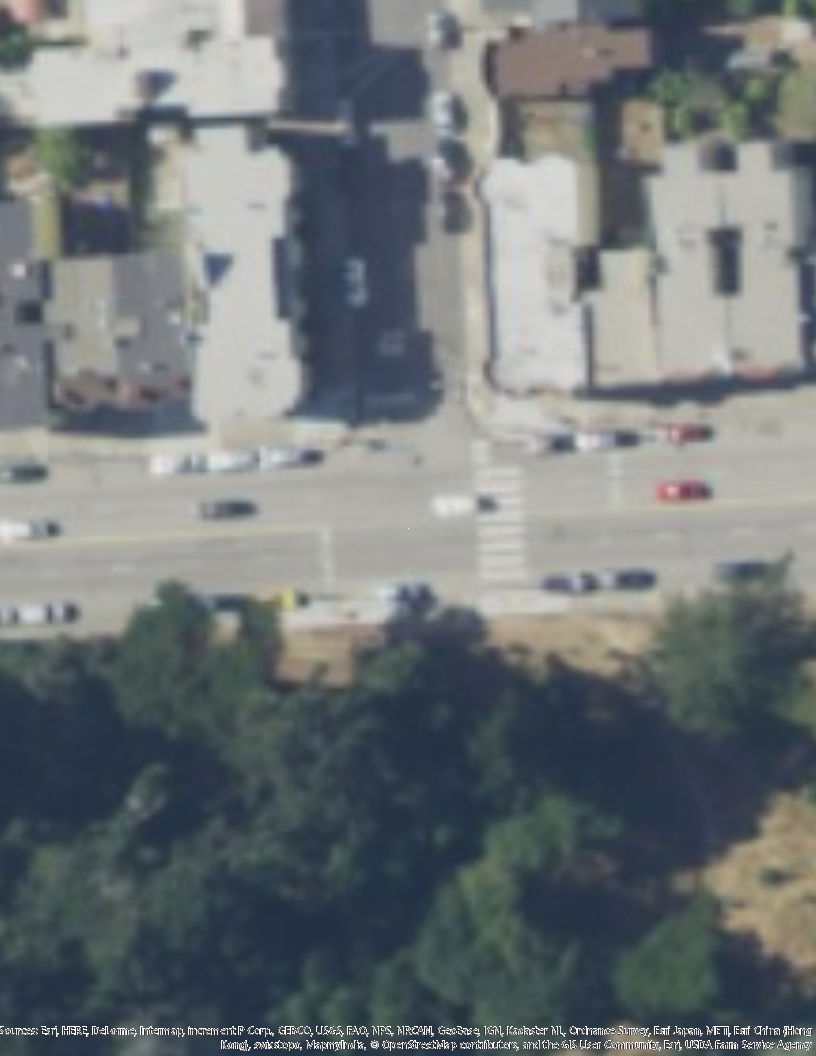zebracross: (468, 436, 529, 589)
